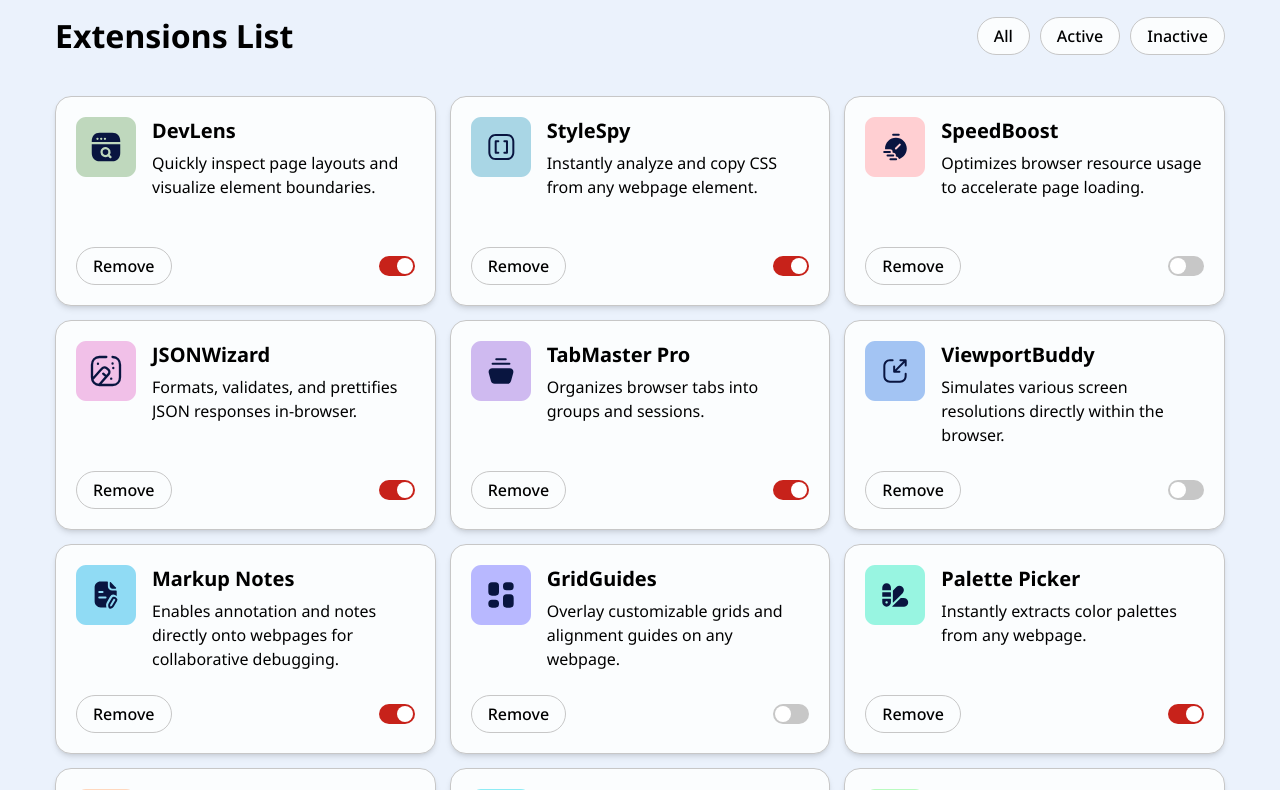
Test: Filters › should filter active extensions
Click the button "Active".
click(1080, 36)  # box [1040,17,1120,55]
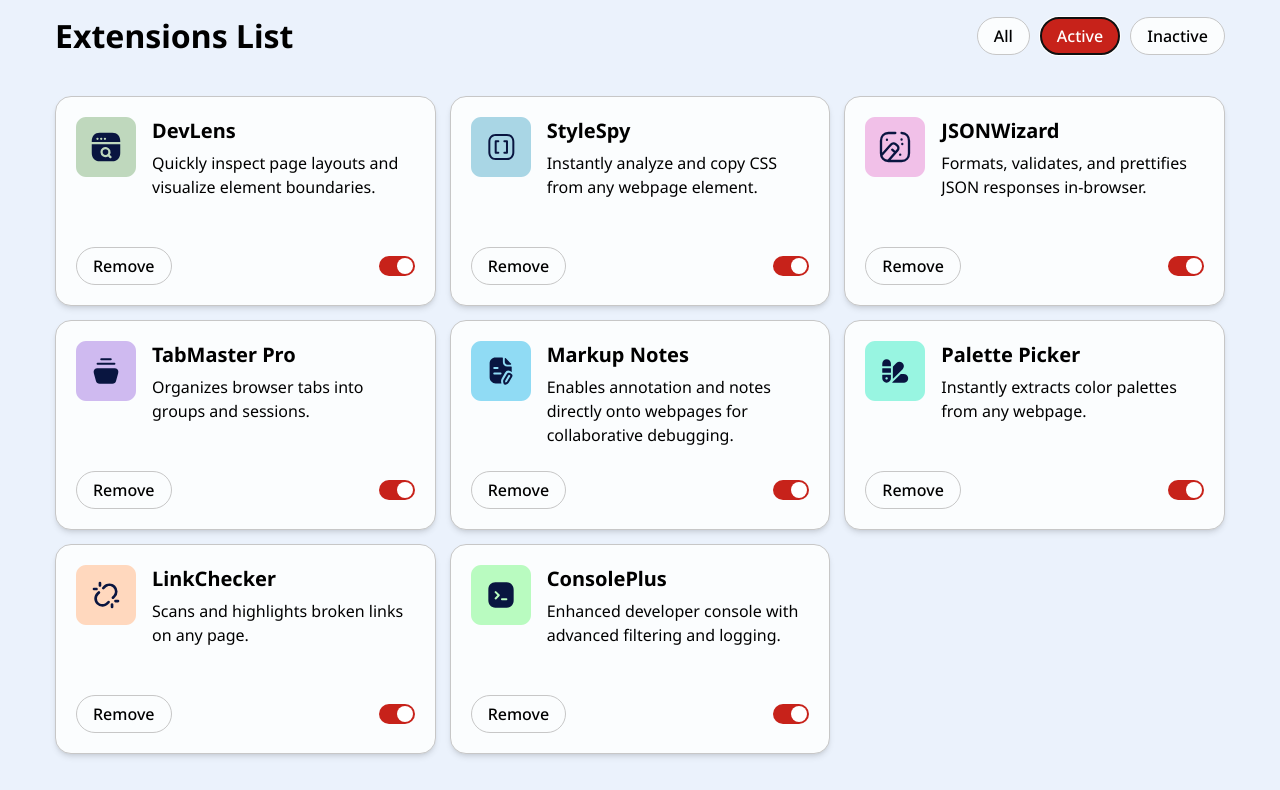
Expected: the number of list items is 8
